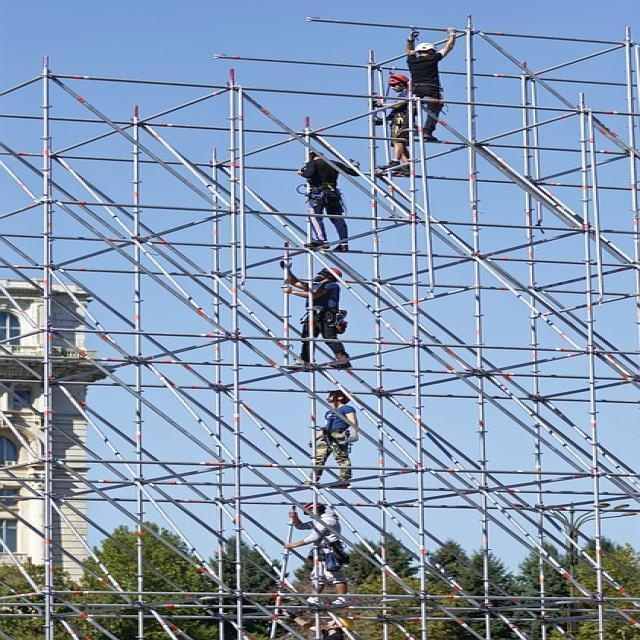Arnes_seguridad: (307, 528, 345, 563), (312, 421, 351, 455), (295, 180, 336, 208)
